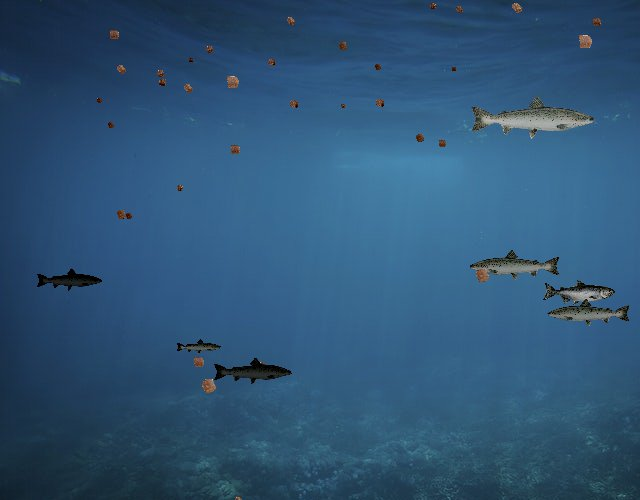Fish: (468, 94, 597, 140), (469, 249, 563, 283), (546, 297, 632, 328), (213, 356, 294, 386), (542, 280, 615, 306), (35, 268, 103, 292), (176, 338, 223, 355)
Pellet: (194, 370, 224, 400), (187, 351, 210, 374), (370, 94, 389, 113), (172, 181, 187, 196), (122, 209, 136, 223), (426, 0, 440, 13)
